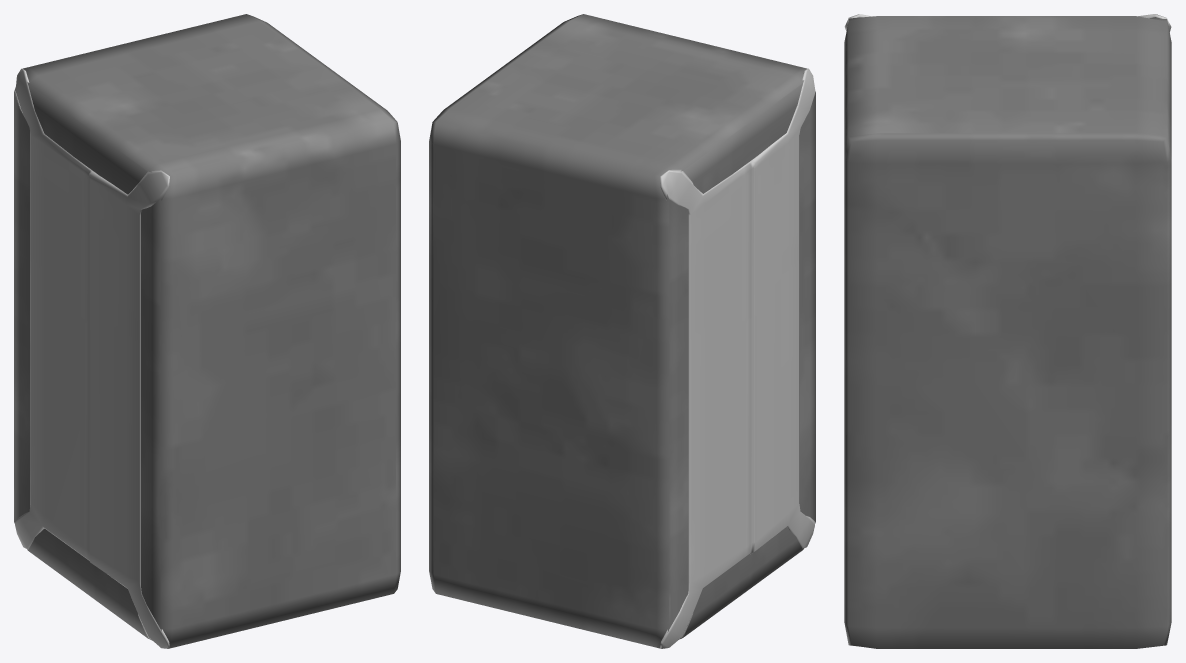
The model's file is napkins.glb.
3 renders of one model, left to right at view 1: azimuth 30°, elevation 25°; view 2: azimuth 150°, elevation 25°; view 3: azimuth 270°, elevation 25°, orthographic. The views are drawn at different scales.
Visible parts, largest first — view 1: Napkin_Dispenser_low; view 2: Napkin_Dispenser_low; view 3: Napkin_Dispenser_low.
Boxes of the visible parts, box(x1,y1,x2,y2) form: Napkin_Dispenser_low: box(14, 14, 400, 648); Napkin_Dispenser_low: box(429, 14, 815, 648); Napkin_Dispenser_low: box(844, 14, 1171, 648).
Size of the model in its own units: 0.0869 by 0.16 by 0.092.
1 material, 1 textured.
